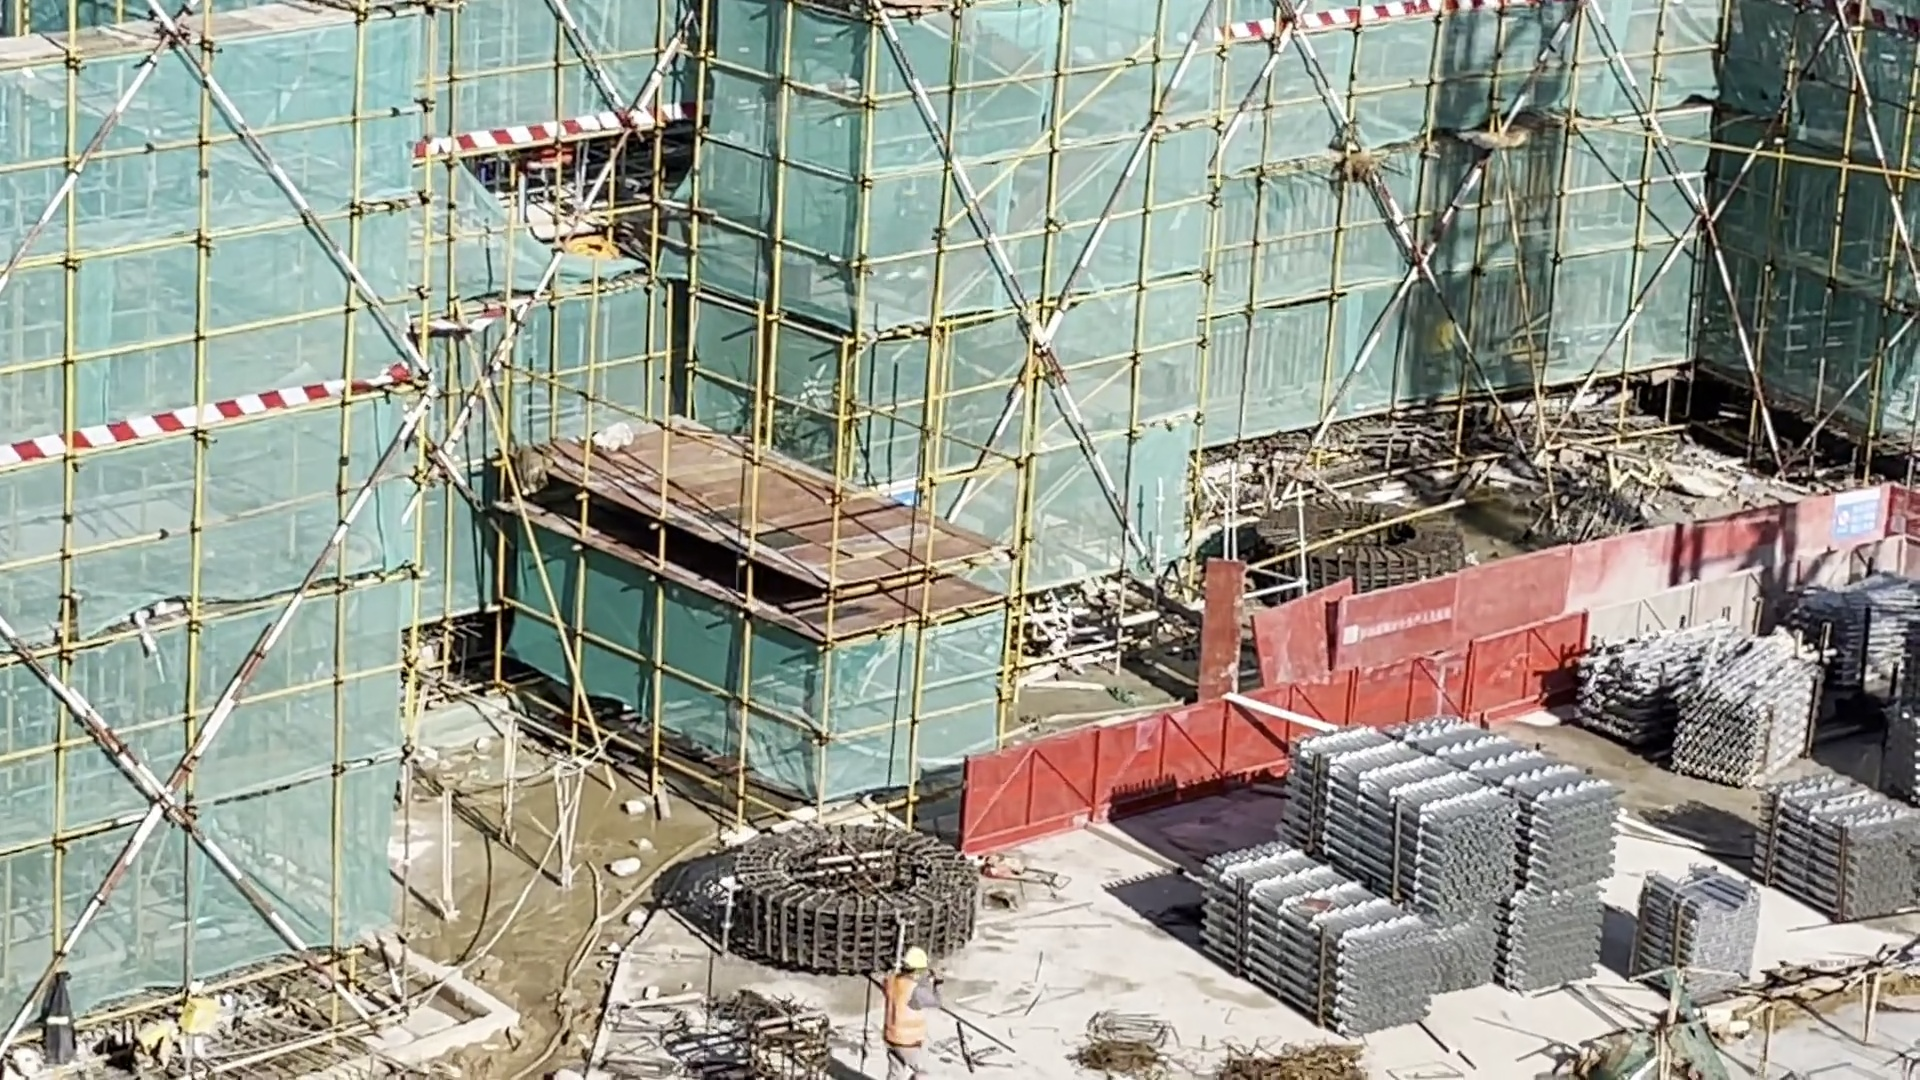fence: (971, 535, 1904, 850)
helmet: (890, 931, 929, 968)
person: (876, 938, 932, 1073)
scaffold: (1216, 718, 1611, 1032), (1569, 620, 1817, 786), (1749, 755, 1918, 931), (1633, 866, 1766, 992)
vest: (881, 984, 923, 1049)
